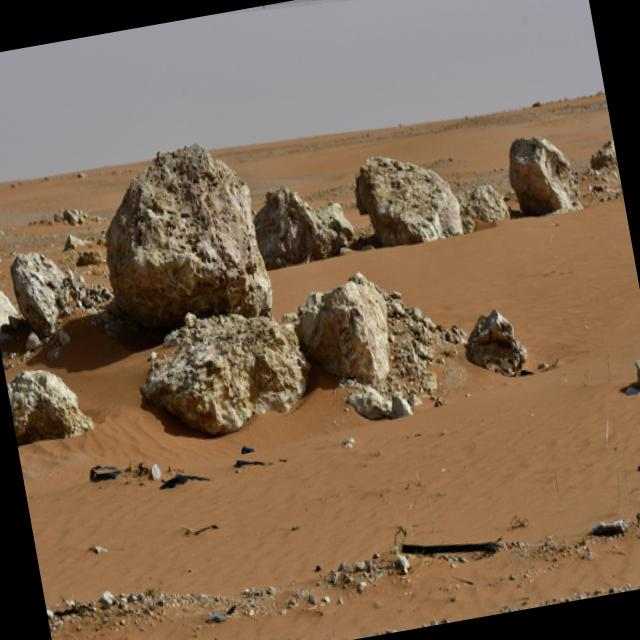red-sand: (23, 361, 640, 602), (272, 201, 640, 380), (212, 93, 613, 210), (0, 162, 148, 232)
stone: (105, 143, 271, 326), (141, 316, 309, 432), (296, 274, 389, 386), (355, 155, 462, 245), (255, 185, 353, 269), (6, 369, 92, 442), (10, 252, 78, 337), (508, 138, 580, 214), (0, 292, 17, 326)
